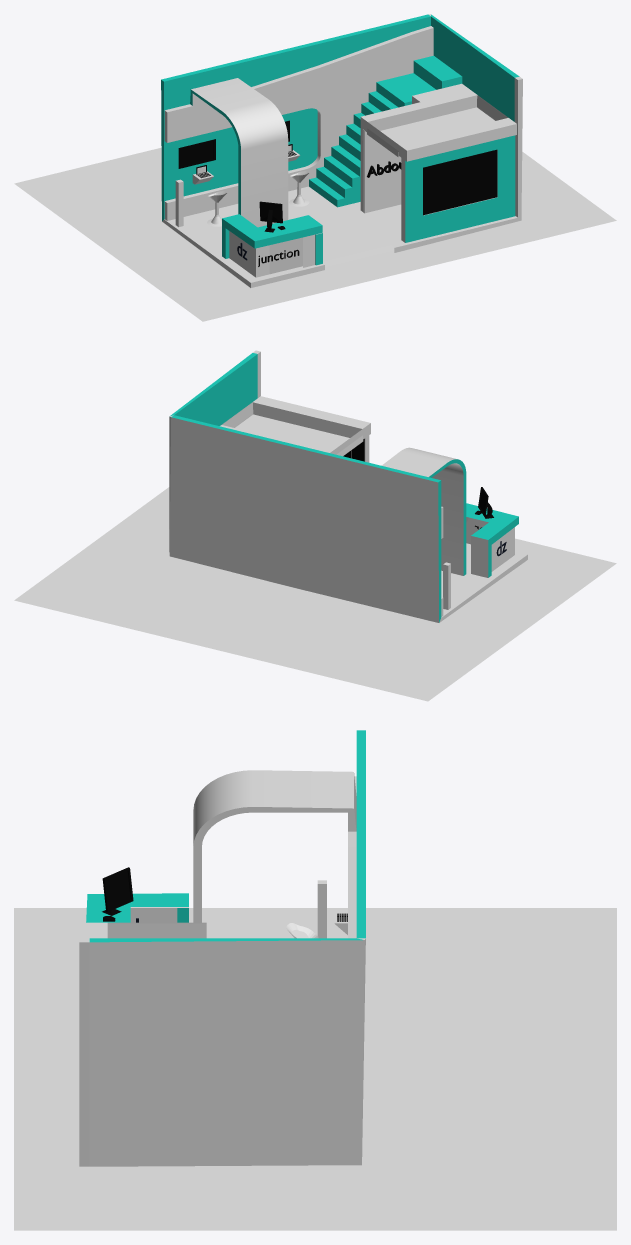
File: standcollection1d.fbx
The picture shows the model from 3 angles, top to bottom: view 1: azimuth 30°, elevation 25°; view 2: azimuth 150°, elevation 25°; view 3: azimuth 270°, elevation 25°; orthographic projection. The views are drawn at different scales.
Visible parts, largest first — view 1: Plane, wall, WALL8SUPPORT, Cube.002, drojj, OFICE, plazama, Plane.005; view 2: Plane, wall, Cube.002, WALL8SUPPORT, OFICE; view 3: Plane, wall, WALL8SUPPORT, OFICE, Cube.002, Plane.005.
Part boxes in pixels (x1,y1,x2,y2): Plane: (14, 147, 616, 321); wall: (161, 14, 522, 287); WALL8SUPPORT: (164, 26, 433, 227); Cube.002: (360, 83, 516, 242); drojj: (309, 55, 462, 207); OFICE: (222, 214, 322, 277); plazama: (178, 139, 215, 168); Plane.005: (259, 201, 282, 232); Plane: (14, 487, 616, 701); wall: (169, 350, 527, 622); Cube.002: (220, 396, 370, 462); WALL8SUPPORT: (382, 447, 466, 616); OFICE: (466, 503, 518, 577); Plane: (14, 908, 616, 1230); wall: (79, 730, 365, 1166); WALL8SUPPORT: (193, 770, 356, 938); OFICE: (86, 893, 188, 922); Cube.002: (81, 922, 228, 938); Plane.005: (102, 867, 133, 915).
Bounding box in the file's own units: 2218 × 741 × 1751.
